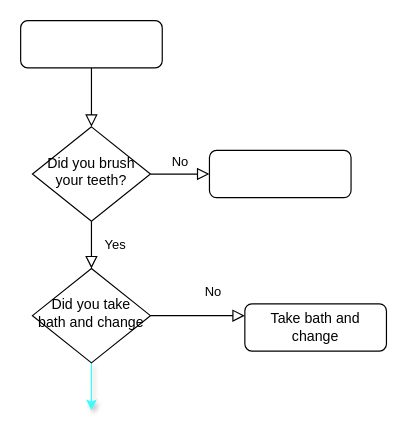
Some shapes in this 407 by 448 pixel diagram are drawn without their labels. The centre of each missing label's shape, as x and y in pixels:
"Brush your teeth" goes at [279,173].
"Your day has started" goes at [90,43].
